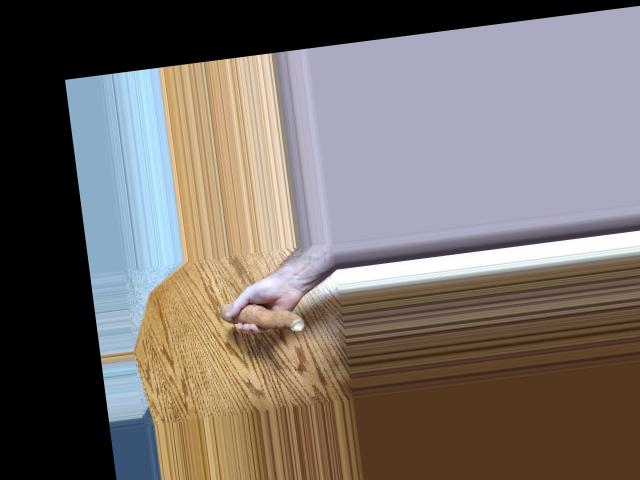sweet_potato: (215, 295, 310, 340)
